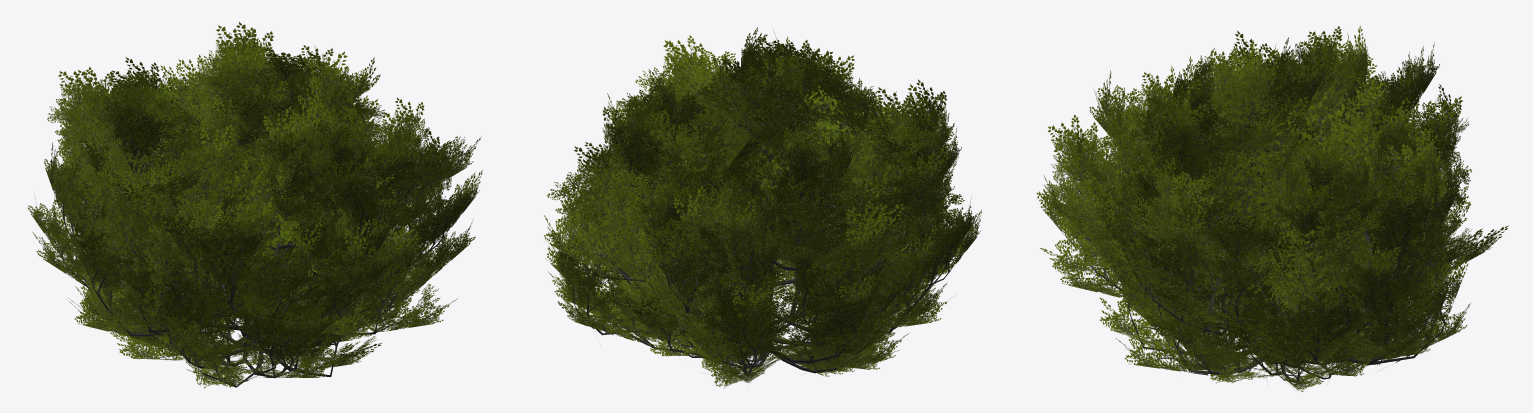
The model's file is leafy_shrub.glb.
3 renders of one model, left to right at view 1: azimuth 30°, elevation 25°; view 2: azimuth 150°, elevation 25°; view 3: azimuth 270°, elevation 25°, orthographic. The views are drawn at different scales.
Parts seen in each view (by area): view 1: Object_76; view 2: Object_76; view 3: Object_76.
Part boxes in pixels (box(x1,y1,x2,y2)): Object_76: box(28, 22, 482, 388); Object_76: box(544, 27, 981, 388); Object_76: box(1036, 25, 1508, 391).
Size of the model in its own units: 8.03 by 6.44 by 8.53.
Materials: 2 (2 with a texture image).
